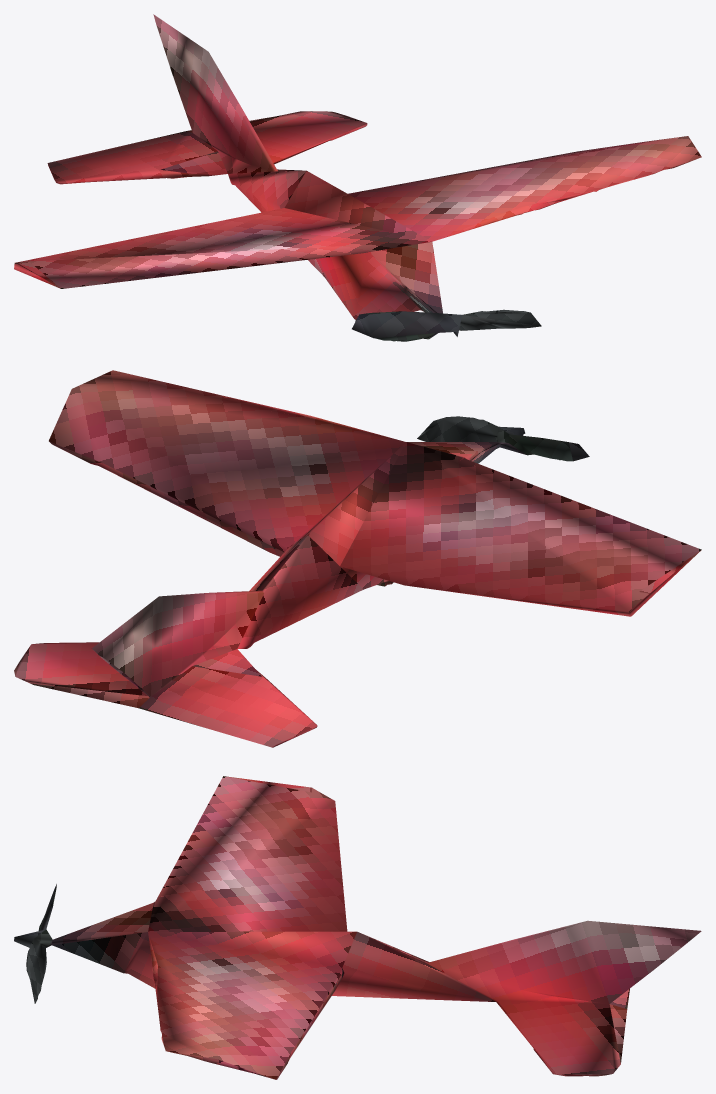
File: Air_Hogs_Wind_Flyers_Set_Airplane_Red-low.glb
3 views of the same model, one above another, from view 1: azimuth 30°, elevation 25°; view 2: azimuth 150°, elevation 25°; view 3: azimuth 270°, elevation 25° (orthographic). The views are drawn at different scales.
Parts seen in each view (by area): view 1: Air_Hogs_Wind_Flyers_Set_Airplane_Red; view 2: Air_Hogs_Wind_Flyers_Set_Airplane_Red; view 3: Air_Hogs_Wind_Flyers_Set_Airplane_Red.
Part boxes in pixels (box(x1,y1,x2,y2)): Air_Hogs_Wind_Flyers_Set_Airplane_Red: box(14, 14, 701, 341); Air_Hogs_Wind_Flyers_Set_Airplane_Red: box(14, 370, 701, 747); Air_Hogs_Wind_Flyers_Set_Airplane_Red: box(14, 776, 701, 1079).
Size of the model in its own units: 0.2654 by 0.0479 by 0.2693.
1 material, 1 textured.
